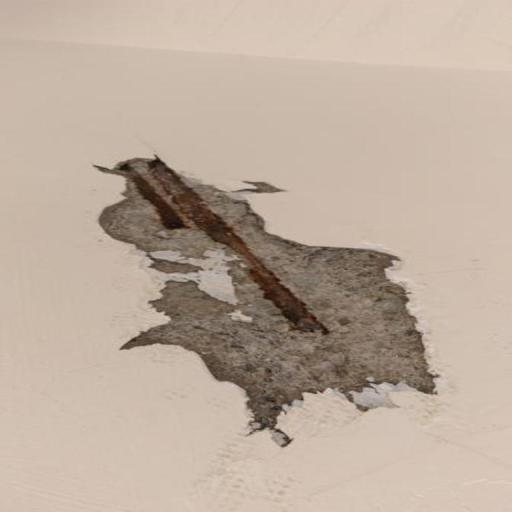spalling: (88, 152, 444, 456)
